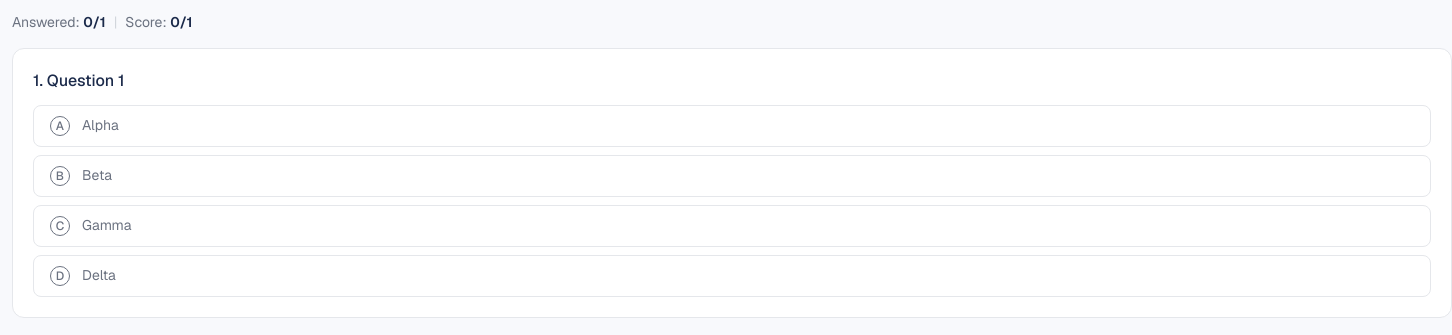
Test case: McqQuestions › selects an option and updates the answered count
What coordinates should you click on to do the following:
click the button "B Beta"
I would click on:
 (60, 176)
Its box is [33,155,1431,197].
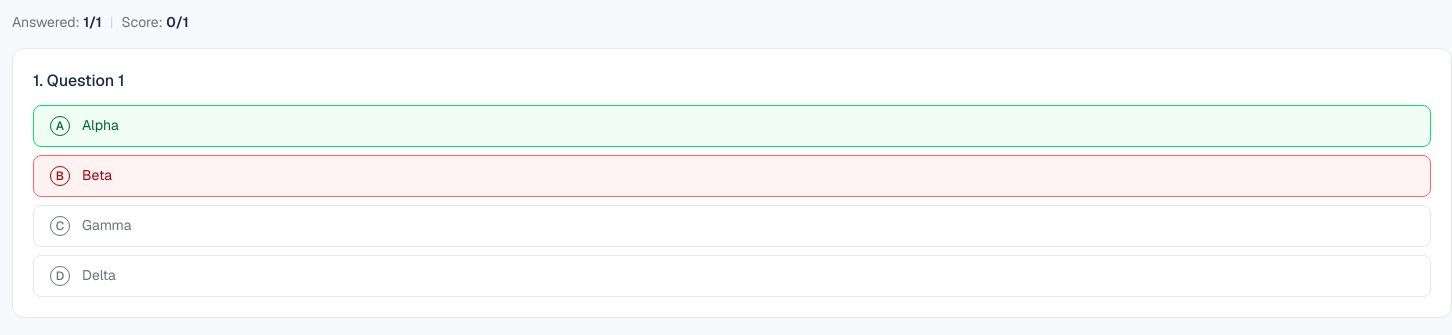
Expected: the text "0/1" is shown, [166,13,189,31]
Result: the text "1/1" is shown at [83,13,102,31]
